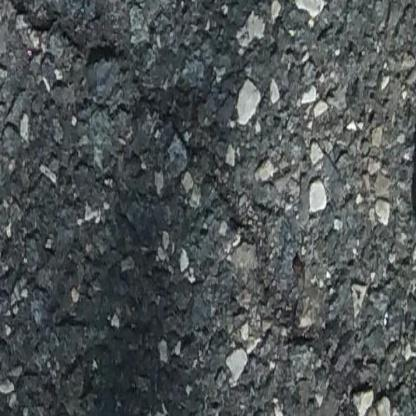Cracks: (8, 0, 353, 404)
